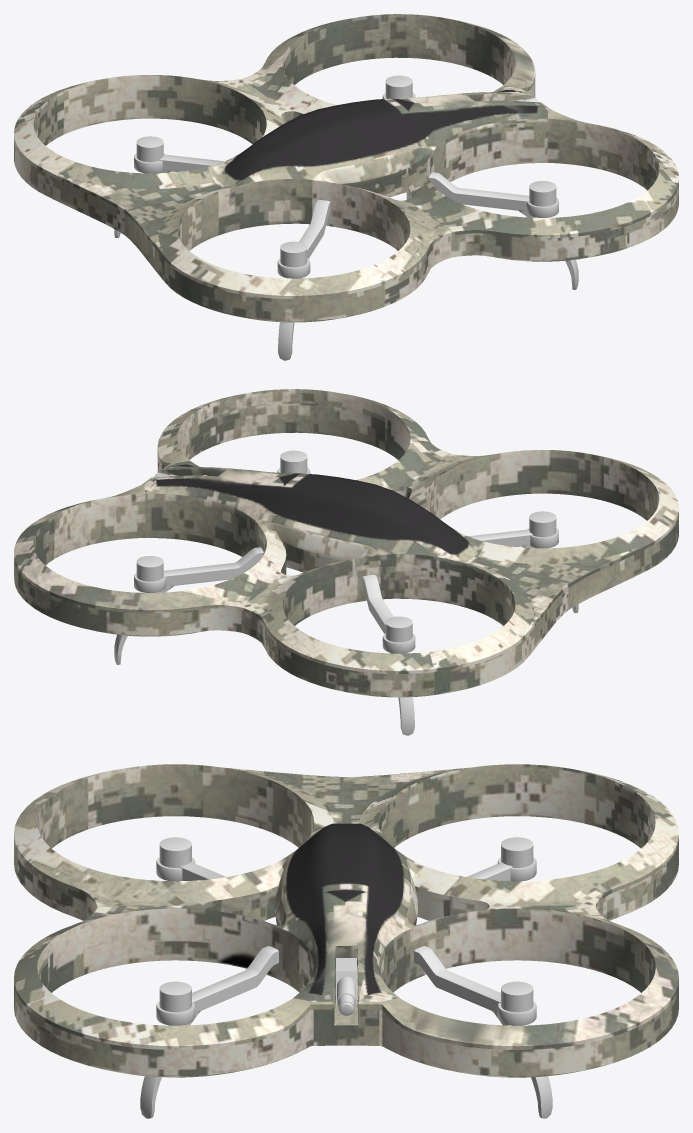
The model's file is QuadCopter_Mesh.fbx.
3 views of the same model, one above another, from view 1: azimuth 30°, elevation 25°; view 2: azimuth 150°, elevation 25°; view 3: azimuth 270°, elevation 25° (orthographic). The views are drawn at different scales.
Parts seen in each view (by area): view 1: Quadrotor1; view 2: Quadrotor1; view 3: Quadrotor1.
Boxes of the visible parts, x1=… form: Quadrotor1: x1=14, y1=14, x2=678, y2=360; Quadrotor1: x1=14, y1=389, x2=678, y2=735; Quadrotor1: x1=14, y1=764, x2=678, y2=1118.
Size of the model in its own units: 8.18 by 2.44 by 8.18.
Materials: 2 (1 with a texture image).
